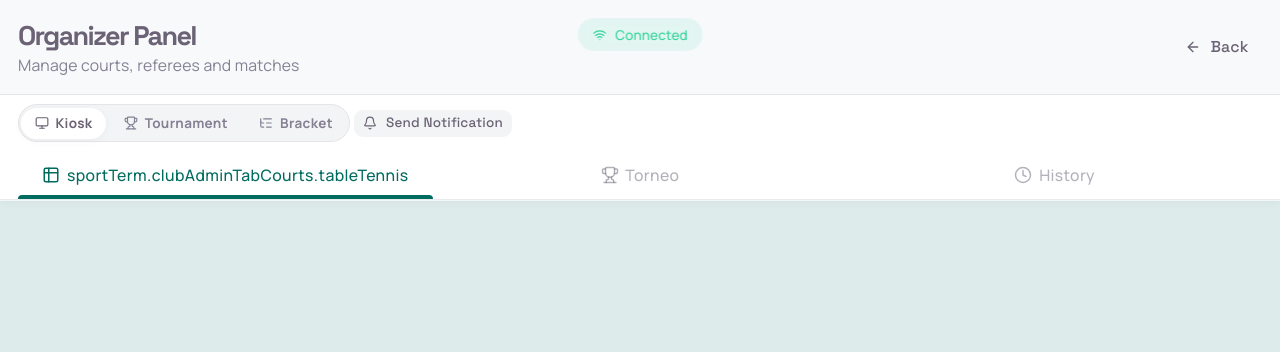
Test: OwnerDashboardPage — strict cold-start owner picker (TCS-4, slice 4.5) › shows the tournament empty-state copy when the inventory has no ACTIVE courts
This screenshot has width=1280, height=352.
Click the tab "Torneo" at x=640, y=176, box left=433, top=152, right=847, bottom=200
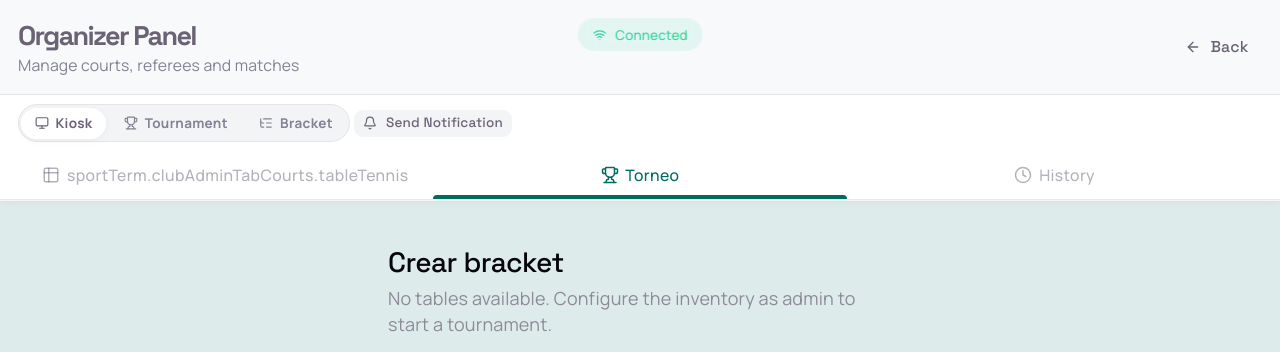
Expected: the text "No tables available" is shown, left=388, top=286, right=856, bottom=336
